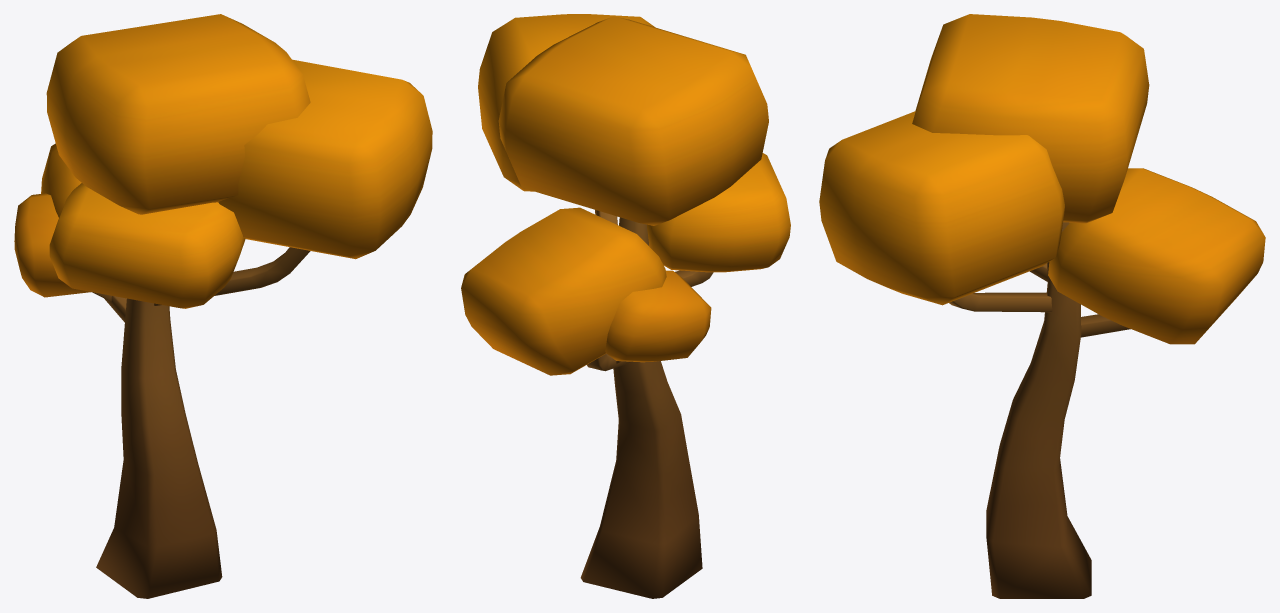
File: Tree_1_3.glb
3 renders of one model, left to right at view 1: azimuth 30°, elevation 25°; view 2: azimuth 150°, elevation 25°; view 3: azimuth 270°, elevation 25°, orthographic. The views are drawn at different scales.
Visible parts, largest first — view 1: Tree_1_3; view 2: Tree_1_3; view 3: Tree_1_3.
Boxes of the visible parts, box(x1,y1,x2,y2) form: Tree_1_3: box(14, 14, 432, 598); Tree_1_3: box(461, 14, 790, 598); Tree_1_3: box(819, 14, 1265, 598).
Bounding box in the file's own units: 2.51 × 3.71 × 2.8.
1 material, 1 textured.
